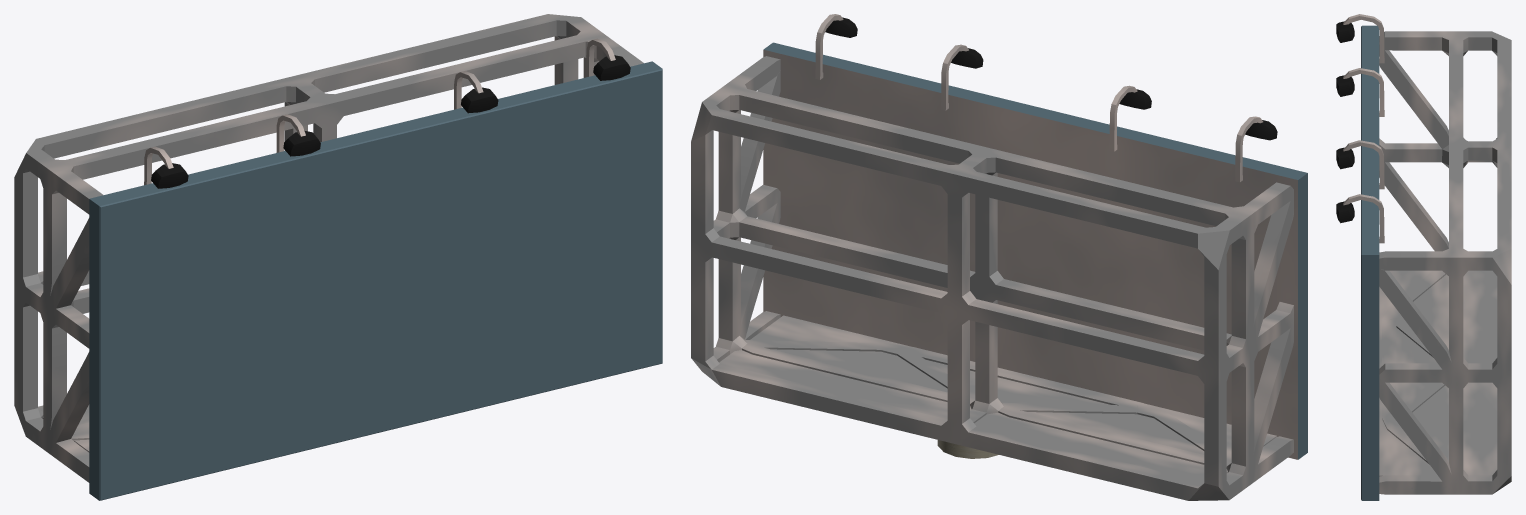
Rendered from Billboard_Baked.fbx.
3 views of the same model, side by side, from view 1: azimuth 30°, elevation 25°; view 2: azimuth 150°, elevation 25°; view 3: azimuth 270°, elevation 25° (orthographic). The views are drawn at different scales.
Parts seen in each view (by area): view 1: Billboard_Baked; view 2: Billboard_Baked; view 3: Billboard_Baked.
Part boxes in pixels (left/top/right/bottom): Billboard_Baked: left=14, top=14, right=662, bottom=500; Billboard_Baked: left=691, top=14, right=1307, bottom=500; Billboard_Baked: left=1336, top=14, right=1511, bottom=500.
Size of the model in its own units: 600 by 352 by 194.
